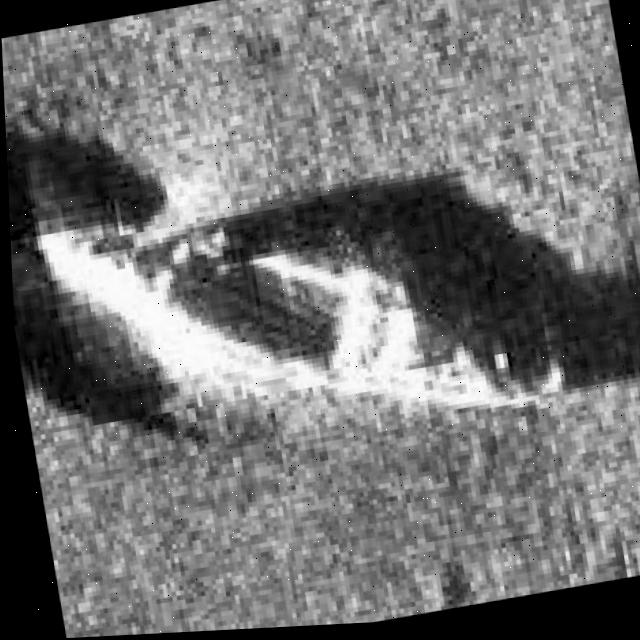shipwreck: (14, 126, 564, 502)
